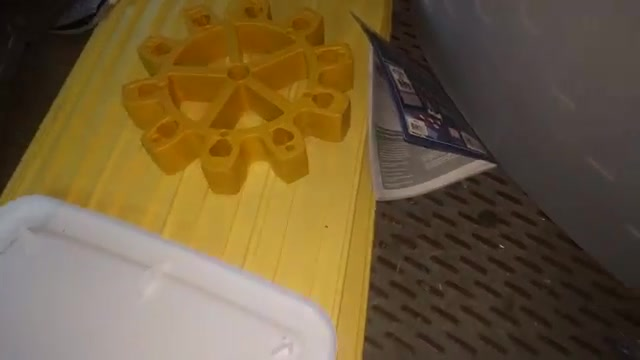gear: (115, 6, 365, 196)
